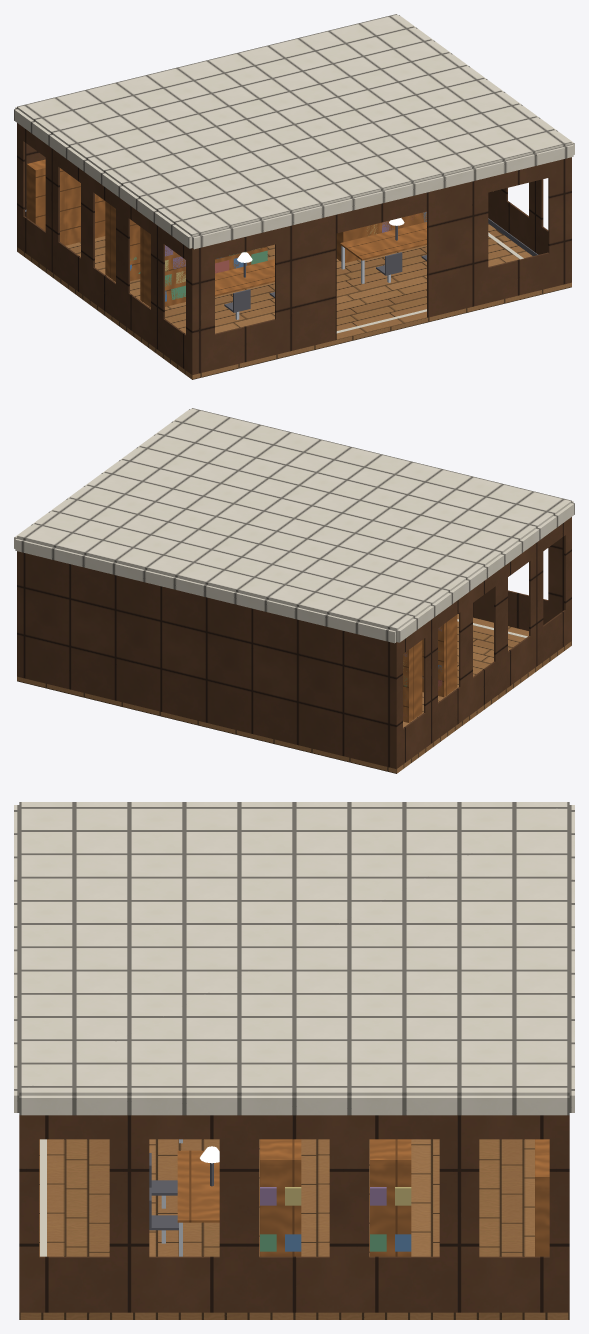
Rendered from spaces-int-library.glb.
3 renders of one model, top to bottom at view 1: azimuth 30°, elevation 25°; view 2: azimuth 150°, elevation 25°; view 3: azimuth 270°, elevation 25°, orthographic. The views are drawn at different scales.
Parts seen in each view (by area): view 1: library interior; view 2: library interior; view 3: library interior.
Boxes of the visible parts, x1=… form: library interior: x1=14, y1=14, x2=574, y2=379; library interior: x1=14, y1=408, x2=574, y2=773; library interior: x1=14, y1=802, x2=574, y2=1319.
Size of the model in its own units: 10.16 by 3.65 by 8.16.
Materials: 14 (4 with a texture image).
